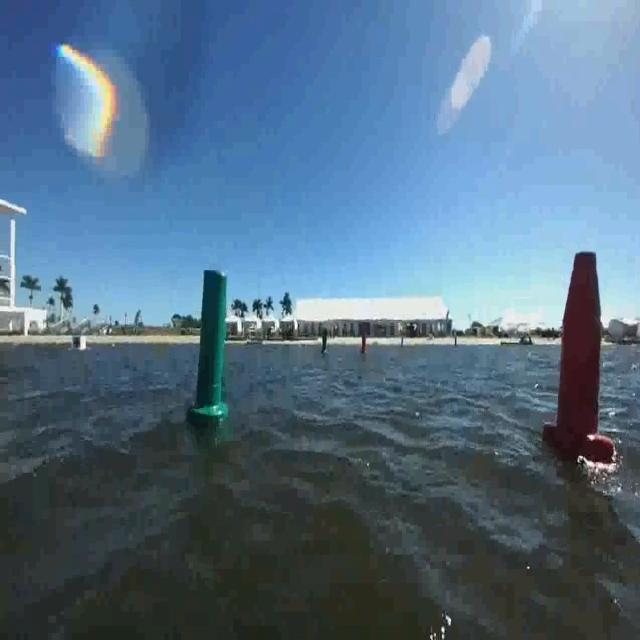green-column-buoy: (194, 268, 232, 424), (320, 328, 330, 356)
red-column-buoy: (543, 245, 612, 462)
